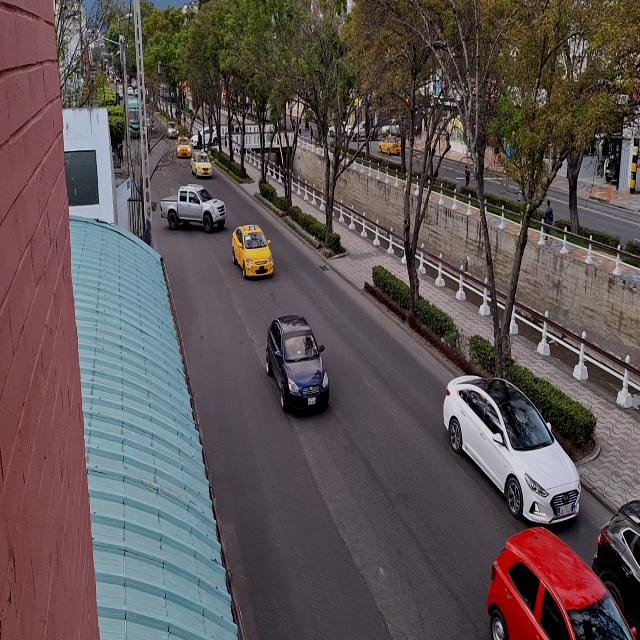CMT: (161, 184, 227, 231)
SED: (441, 371, 577, 523), (266, 320, 329, 415), (233, 226, 273, 278), (189, 150, 214, 179)
